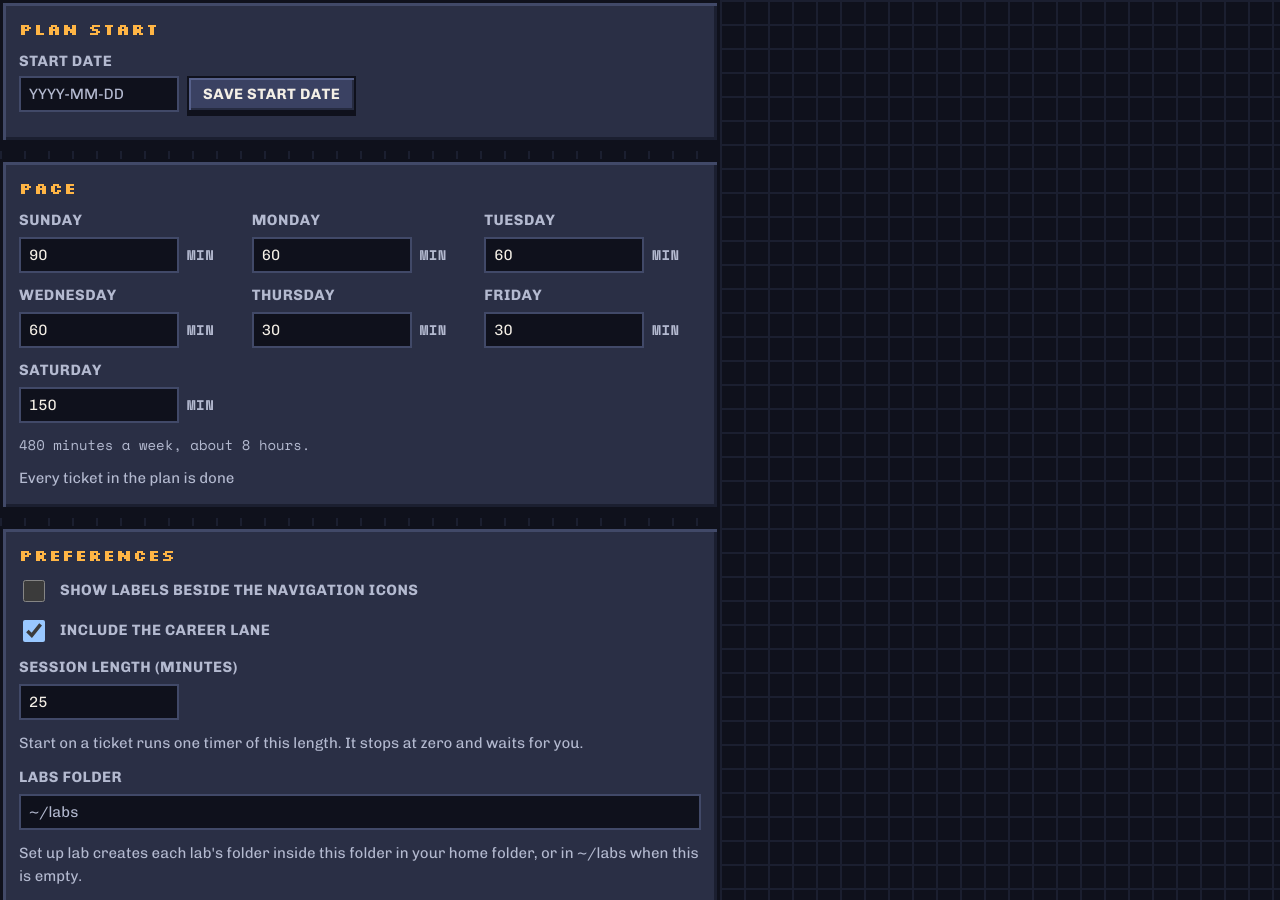
Test case: Settings: a failing save › preferences: a failing session length and a failing switch each toast one sentence
expect the element with test id "settings-pace" is shown: met, box [0, 159, 720, 510]
Replace the text in the field with test id "settings-session-minutes" with "40" at (99, 702), box [19, 684, 179, 720]
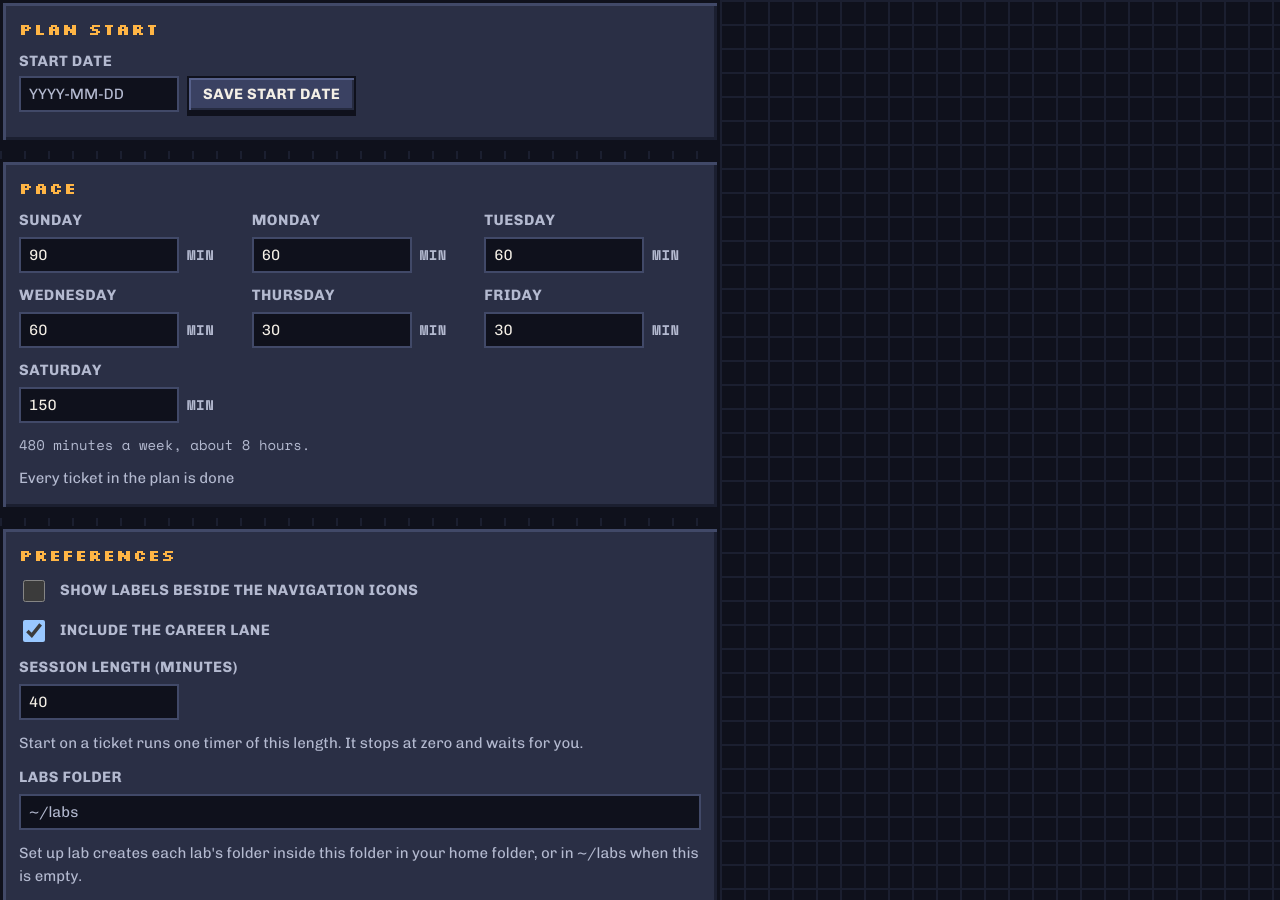
Click the switch with test id "settings-nav-labels" at (34, 590), box [23, 580, 45, 602]
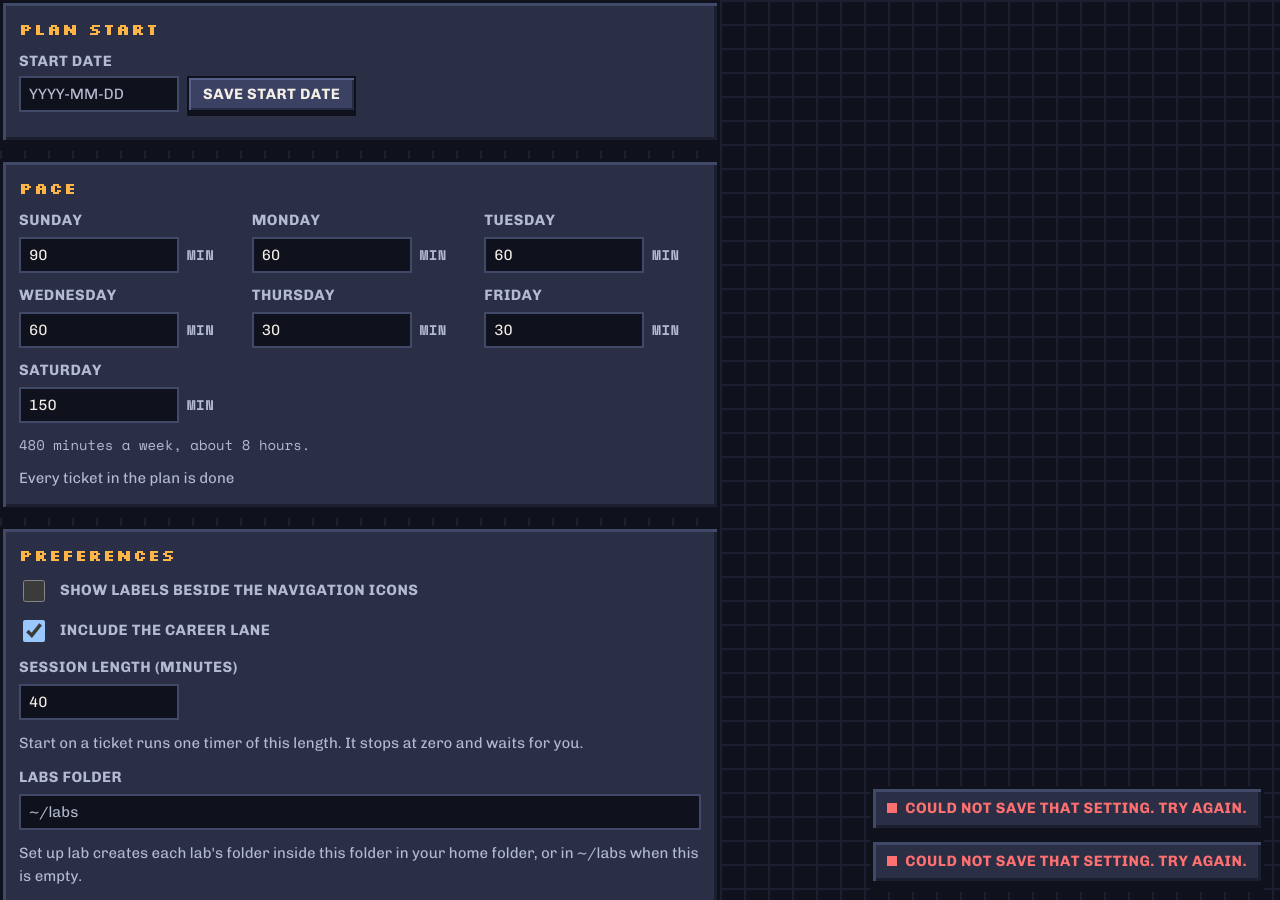
expect the field with test id "settings-session-minutes" is enabled: met, box [19, 684, 179, 720]
expect the 1st text "Could not save that setting. Try again." is shown: met, box [870, 786, 1264, 831]
